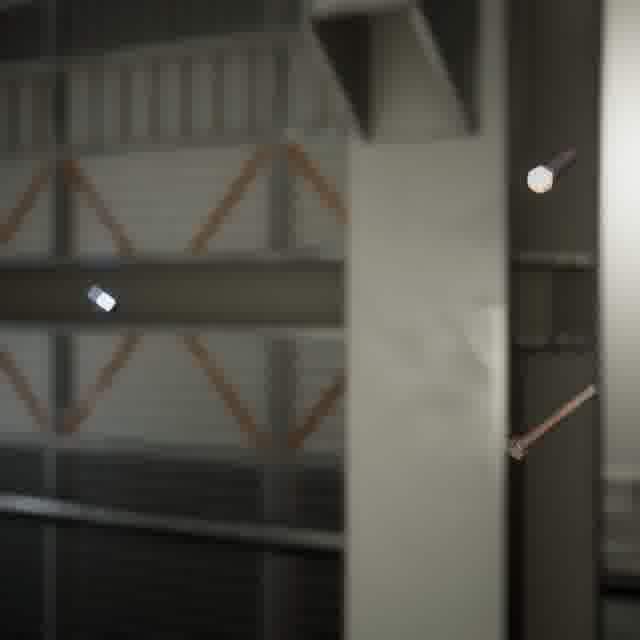bolt: (501, 378, 603, 464), (522, 143, 582, 198)
nut: (82, 280, 124, 318)
